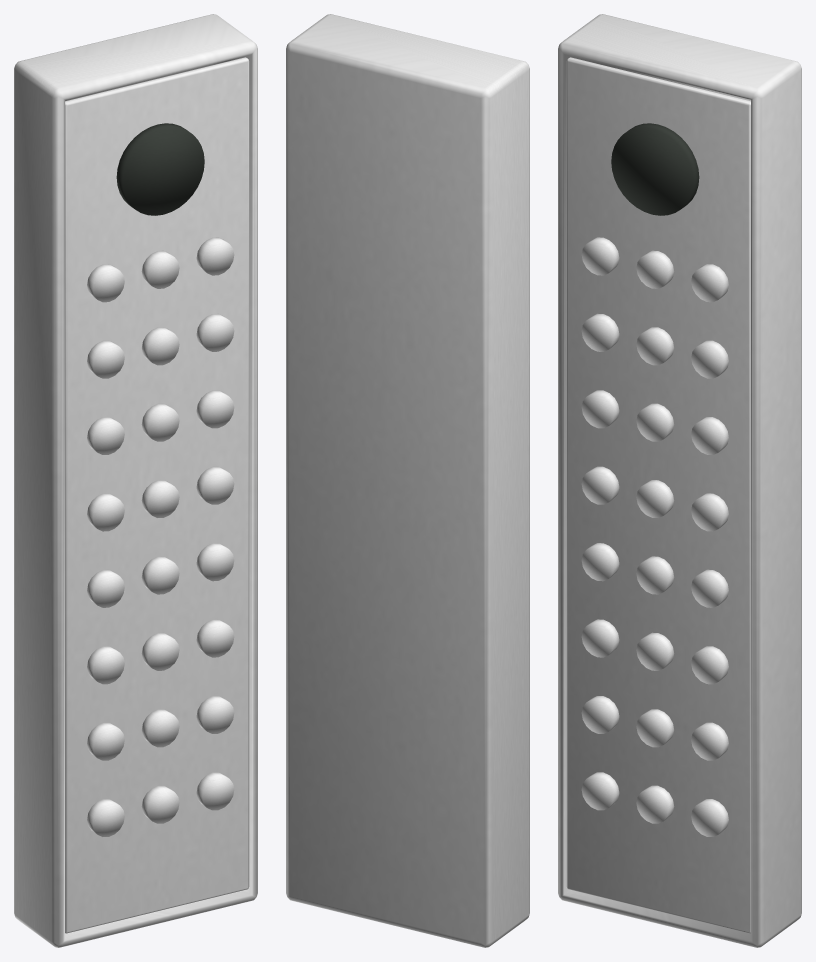
File: intact.glb
3 views of the same model, side by side, from view 1: azimuth 30°, elevation 25°; view 2: azimuth 150°, elevation 25°; view 3: azimuth 330°, elevation 25° (orthographic).
Parts seen in each view (by area): view 1: remote-component-001-black, remote-component-000-black, remote-component-027-keys, remote-component-006-rubber, remote-component-004-rubber, remote-component-005-rubber, remote-component-019-rubber, remote-component-021-rubber, remote-component-013-rubber, remote-component-020-rubber, remote-component-023-rubber, remote-component-014-rubber (+15 smaller); view 2: remote-component-000-black; view 3: remote-component-001-black, remote-component-000-black, remote-component-027-keys, remote-component-008-rubber, remote-component-003-rubber, remote-component-004-rubber, remote-component-019-rubber, remote-component-023-rubber, remote-component-013-rubber, remote-component-018-rubber, remote-component-021-rubber, remote-component-012-rubber (+15 smaller).
Boxes of the visible parts, box(x1,y1,x2,y2) form: remote-component-001-black: box(65, 57, 249, 933); remote-component-000-black: box(14, 14, 257, 947); remote-component-027-keys: box(116, 123, 204, 215); remote-component-006-rubber: box(87, 722, 124, 760); remote-component-004-rubber: box(141, 785, 179, 823); remote-component-005-rubber: box(196, 772, 234, 810); remote-component-019-rubber: box(141, 403, 179, 441); remote-component-021-rubber: box(87, 340, 124, 378); remote-component-013-rubber: box(141, 556, 179, 594); remote-component-020-rubber: box(196, 390, 234, 428); remote-component-023-rubber: box(196, 313, 234, 351); remote-component-014-rubber: box(196, 543, 234, 581); remote-component-000-black: box(286, 14, 529, 947); remote-component-001-black: box(566, 57, 750, 933); remote-component-000-black: box(558, 14, 801, 947); remote-component-027-keys: box(611, 123, 699, 215); remote-component-008-rubber: box(691, 722, 728, 760); remote-component-003-rubber: box(581, 772, 619, 810); remote-component-004-rubber: box(636, 785, 674, 823); remote-component-019-rubber: box(636, 403, 674, 441); remote-component-023-rubber: box(691, 340, 728, 378); remote-component-013-rubber: box(636, 556, 674, 594); remote-component-018-rubber: box(581, 390, 619, 428); remote-component-021-rubber: box(581, 313, 619, 351); remote-component-012-rubber: box(581, 543, 619, 581).
Bounding box in the file's own units: 0.045 × 0.18 × 0.019.
Materials: 4 (4 with a texture image).
